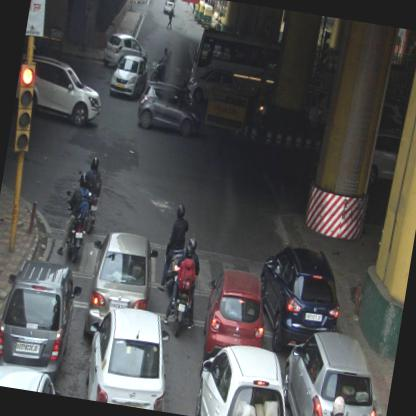bus: (186, 26, 280, 115)
car: (250, 240, 346, 358), (78, 302, 180, 410), (0, 256, 87, 378), (274, 326, 392, 415), (80, 228, 162, 344), (194, 337, 304, 415), (199, 266, 273, 361), (13, 50, 107, 124), (134, 79, 209, 138), (0, 358, 69, 396), (107, 51, 150, 100), (101, 30, 150, 70), (160, 0, 177, 14)
motorcycle: (160, 234, 205, 344), (154, 202, 193, 302), (55, 168, 94, 264), (78, 152, 106, 230), (313, 388, 361, 415), (148, 44, 174, 86)
